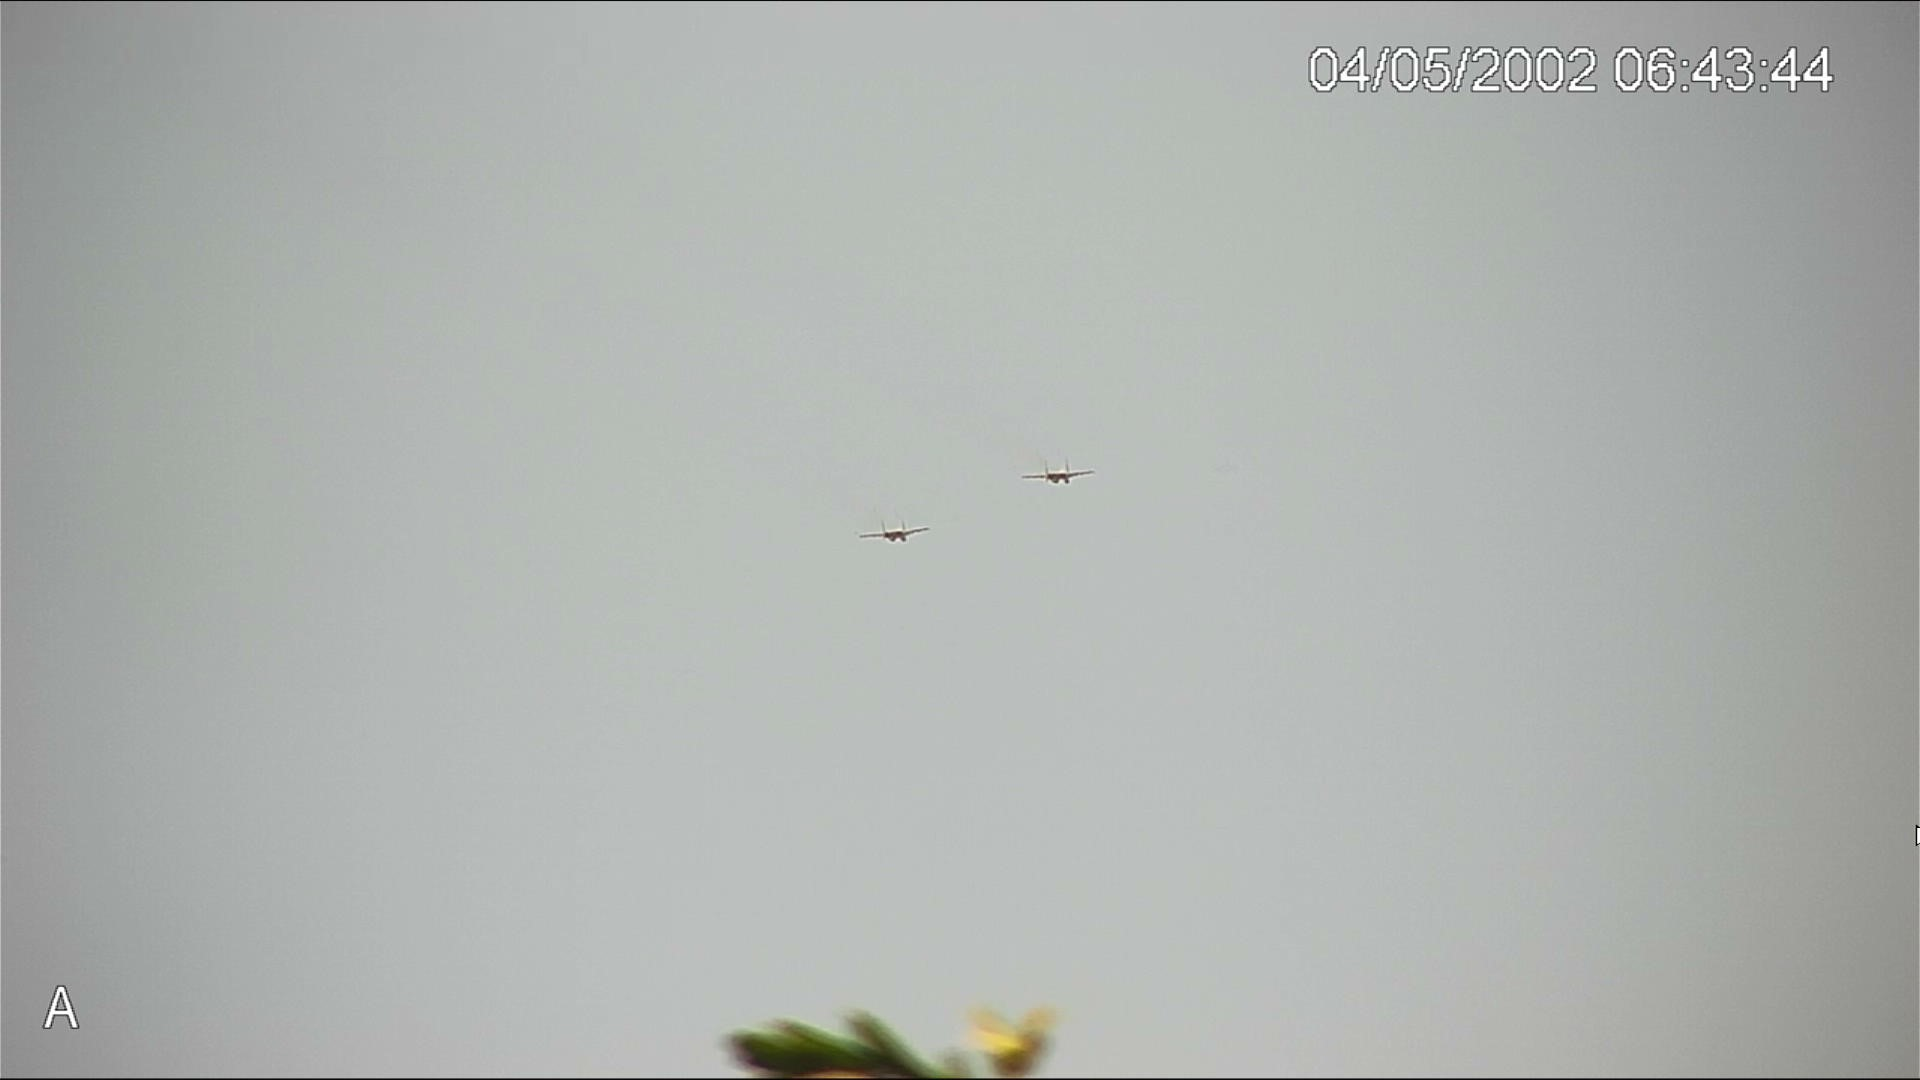SU_30: (1018, 460, 1097, 483), (855, 518, 934, 541)
